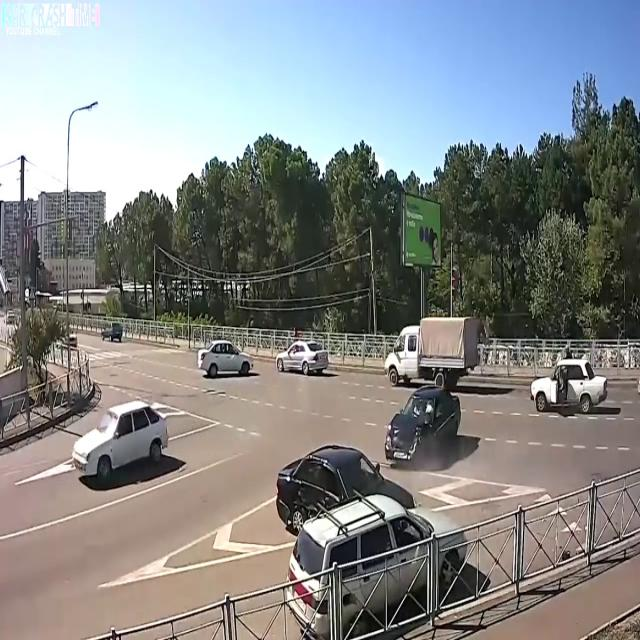Accident: (283, 377, 456, 548)
